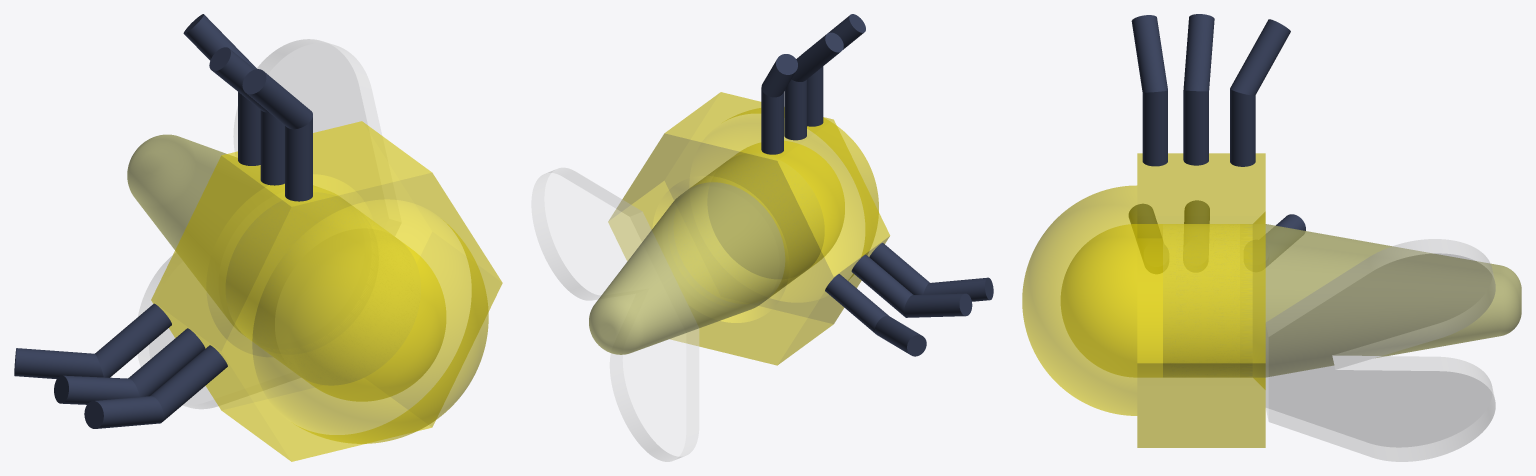
File: Transportation bee.glb
The picture shows the model from 3 angles, left to right: view 1: azimuth 30°, elevation 25°; view 2: azimuth 150°, elevation 25°; view 3: azimuth 270°, elevation 25°; orthographic projection. The views are drawn at different scales.
Parts seen in each view (by area): view 1: Slijepa navrtka M6, Part4^Transportation bee, Part6^Transportation bee (×6), Part5^Transportation bee; view 2: Slijepa navrtka M6, Part4^Transportation bee, Part5^Transportation bee, Part6^Transportation bee (×6); view 3: Slijepa navrtka M6, Part4^Transportation bee, Part5^Transportation bee, Part6^Transportation bee (×6).
Boxes of the visible parts, x1,y1,x2,y2 form: Slijepa navrtka M6: [151, 121, 502, 461]; Part4^Transportation bee: [127, 134, 420, 384]; Part6^Transportation bee (×6): [14, 14, 312, 428]; Part5^Transportation bee: [137, 39, 400, 408]; Slijepa navrtka M6: [608, 92, 889, 365]; Part4^Transportation bee: [589, 153, 824, 354]; Part5^Transportation bee: [531, 168, 698, 461]; Part6^Transportation bee (×6): [761, 14, 993, 356]; Slijepa navrtka M6: [1022, 153, 1265, 447]; Part4^Transportation bee: [1163, 224, 1521, 377]; Part5^Transportation bee: [1266, 239, 1495, 461]; Part6^Transportation bee (×6): [1129, 14, 1305, 273].
Size of the model in its own units: 0.0169 by 0.018 by 0.0195.
